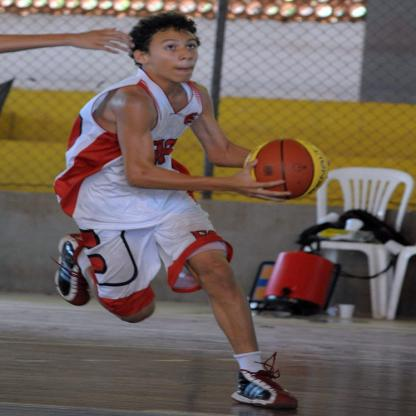Ball: (241, 136, 330, 208)
